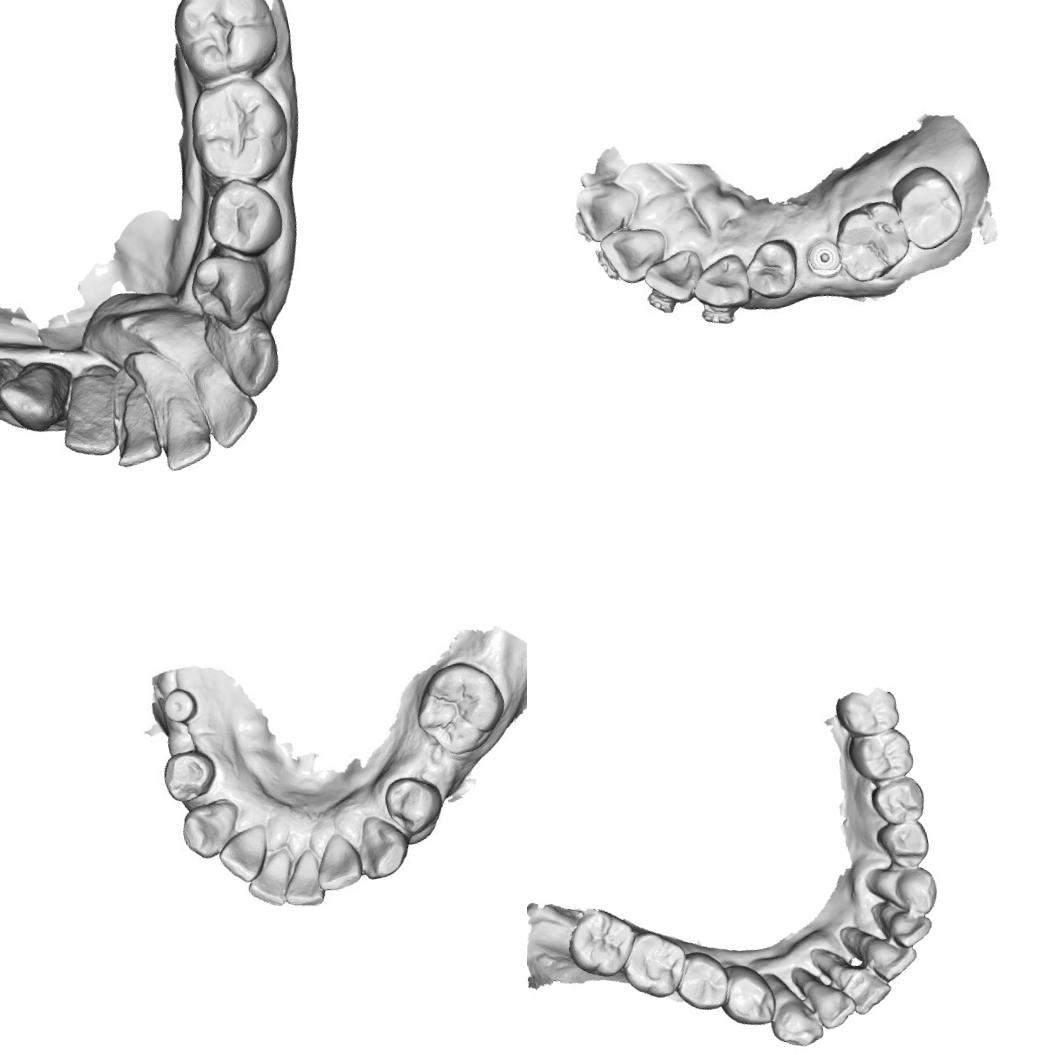canine: (200, 306, 288, 404), (758, 962, 826, 1052), (0, 357, 70, 438), (861, 855, 942, 923), (174, 795, 246, 864), (351, 804, 414, 882), (688, 246, 756, 315)
implant: (159, 682, 202, 724), (803, 236, 842, 280)
incisor: (48, 360, 130, 464), (192, 355, 264, 454), (153, 394, 217, 473), (572, 176, 642, 244), (828, 954, 896, 1018), (105, 400, 165, 470), (600, 224, 672, 282), (213, 824, 276, 889), (644, 249, 708, 312), (802, 968, 859, 1032), (273, 850, 328, 916), (860, 928, 922, 986), (241, 848, 293, 913), (316, 830, 364, 890), (880, 902, 937, 952)
molar: (180, 68, 297, 192), (164, 0, 281, 87), (410, 660, 506, 756), (560, 900, 643, 984), (832, 200, 912, 283), (894, 162, 966, 249), (616, 924, 690, 1004), (844, 722, 919, 788), (831, 679, 901, 740)
premolar: (195, 170, 290, 264), (182, 244, 274, 336), (712, 956, 780, 1033), (667, 946, 734, 1016), (384, 772, 446, 840), (743, 235, 803, 303), (158, 742, 219, 806), (866, 770, 929, 828), (872, 814, 934, 872)
